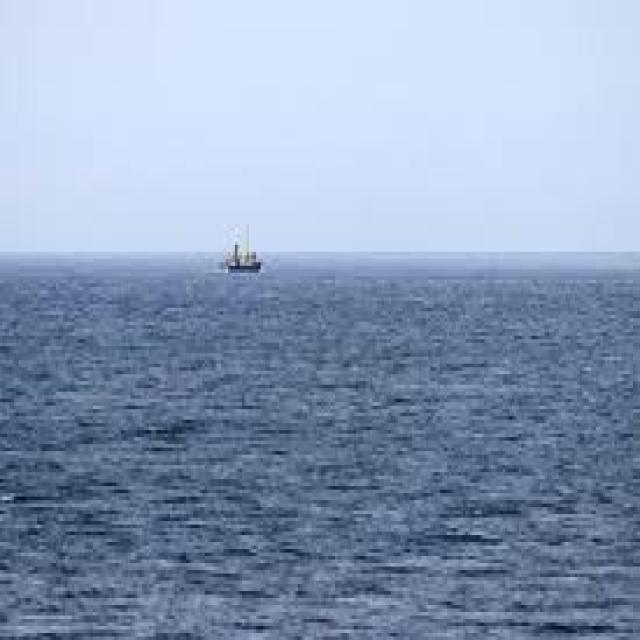fishing boat: (218, 230, 265, 274)
